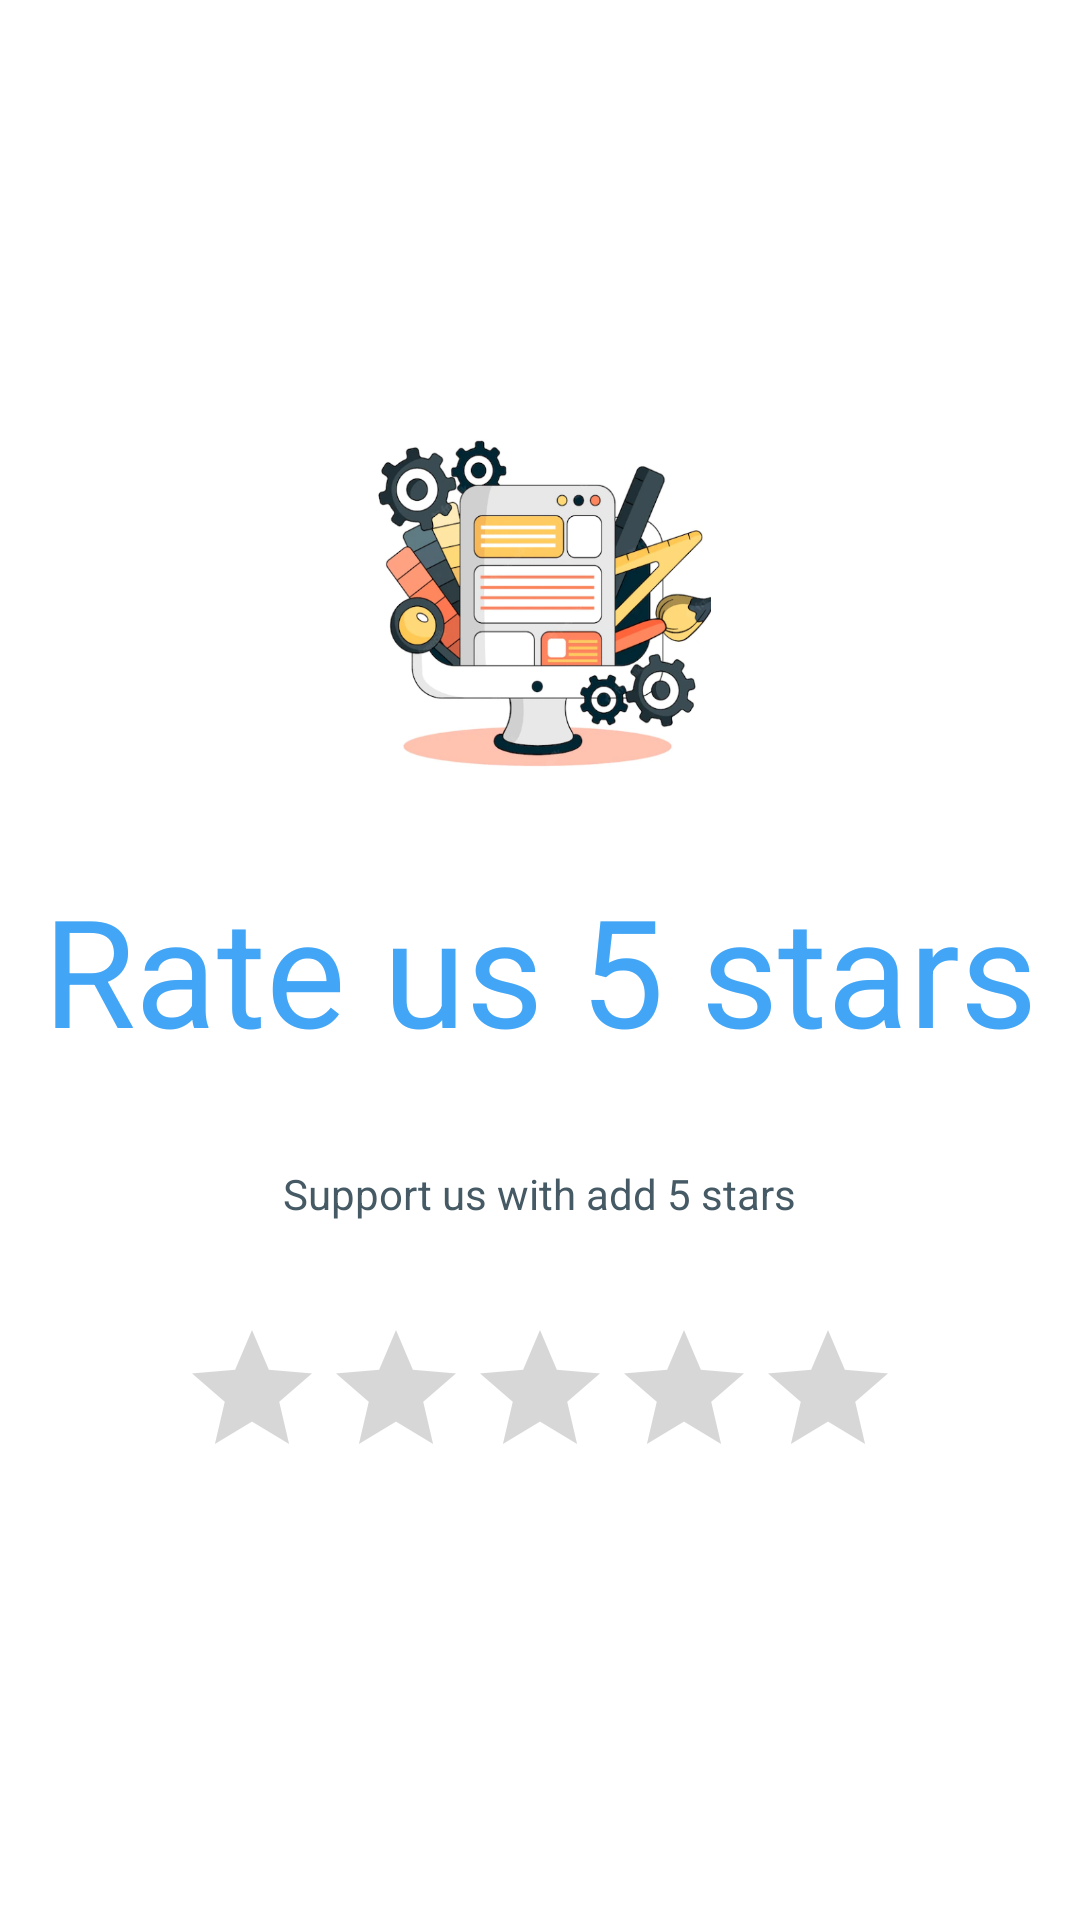

Named icons in this screenshot (1080 x 1920) and their centers, [x,y]:
webdesign: [544,603]
